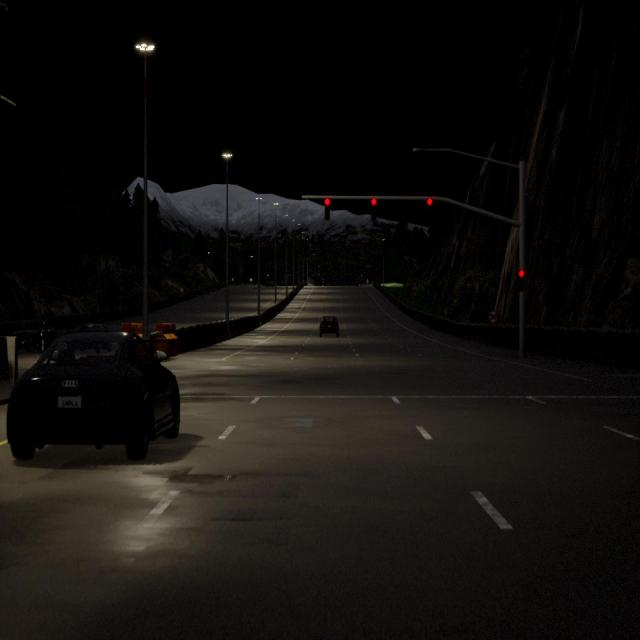Traffic_Signs: (488, 311, 498, 323), (64, 306, 70, 315), (180, 288, 183, 292)
Vehicle: (7, 328, 180, 462), (16, 319, 56, 355), (320, 316, 340, 338)
traffic_light: (518, 270, 524, 292), (371, 198, 377, 220), (325, 197, 330, 220), (427, 197, 432, 216)
